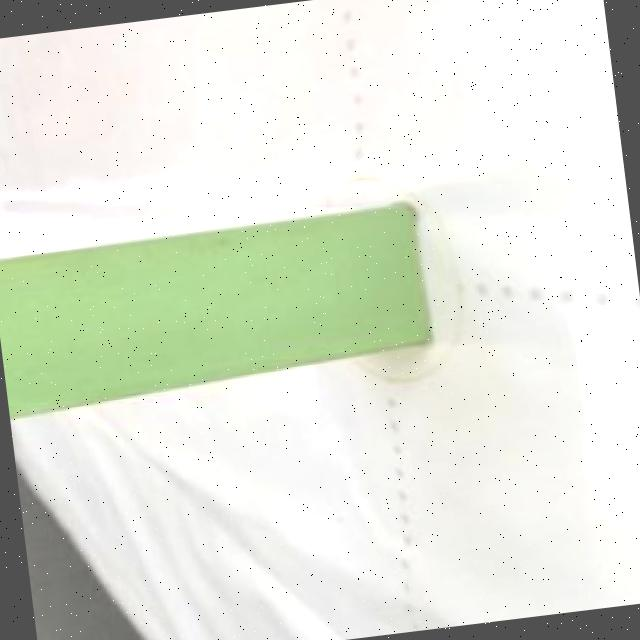greenbox: (0, 200, 436, 415)
